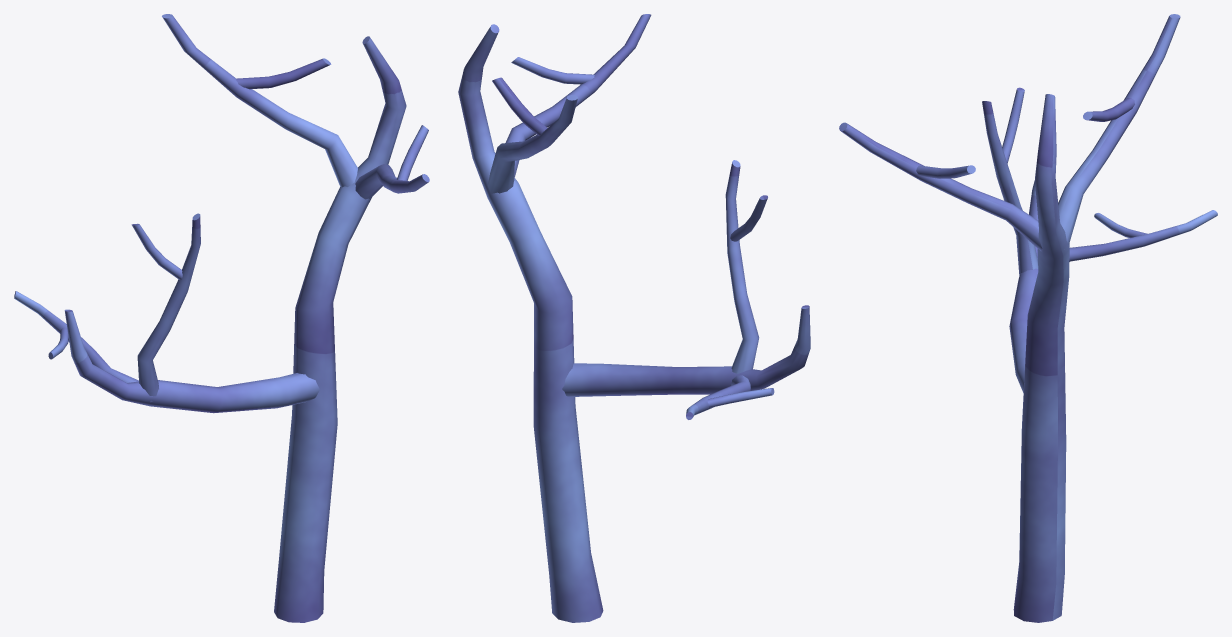
Rendered from DeadTree_6.obj.
3 renders of one model, left to right at view 1: azimuth 30°, elevation 25°; view 2: azimuth 150°, elevation 25°; view 3: azimuth 270°, elevation 25°, orthographic. The views are drawn at different scales.
Visible parts, largest first — view 1: DeadTree_6_Cylinder.040; view 2: DeadTree_6_Cylinder.040; view 3: DeadTree_6_Cylinder.040.
Boxes of the visible parts, x1,y1,x2,y2 form: DeadTree_6_Cylinder.040: (14, 14, 429, 622); DeadTree_6_Cylinder.040: (458, 14, 810, 622); DeadTree_6_Cylinder.040: (839, 14, 1217, 622).
Bounding box in the file's own units: 4.79 × 7.61 × 4.62.
Materials: 1 (1 with a texture image).
